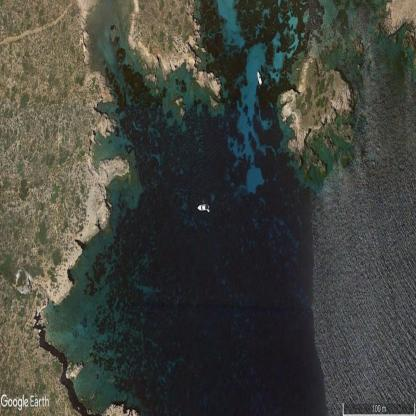ship: (197, 204, 209, 211), (257, 71, 262, 86)
